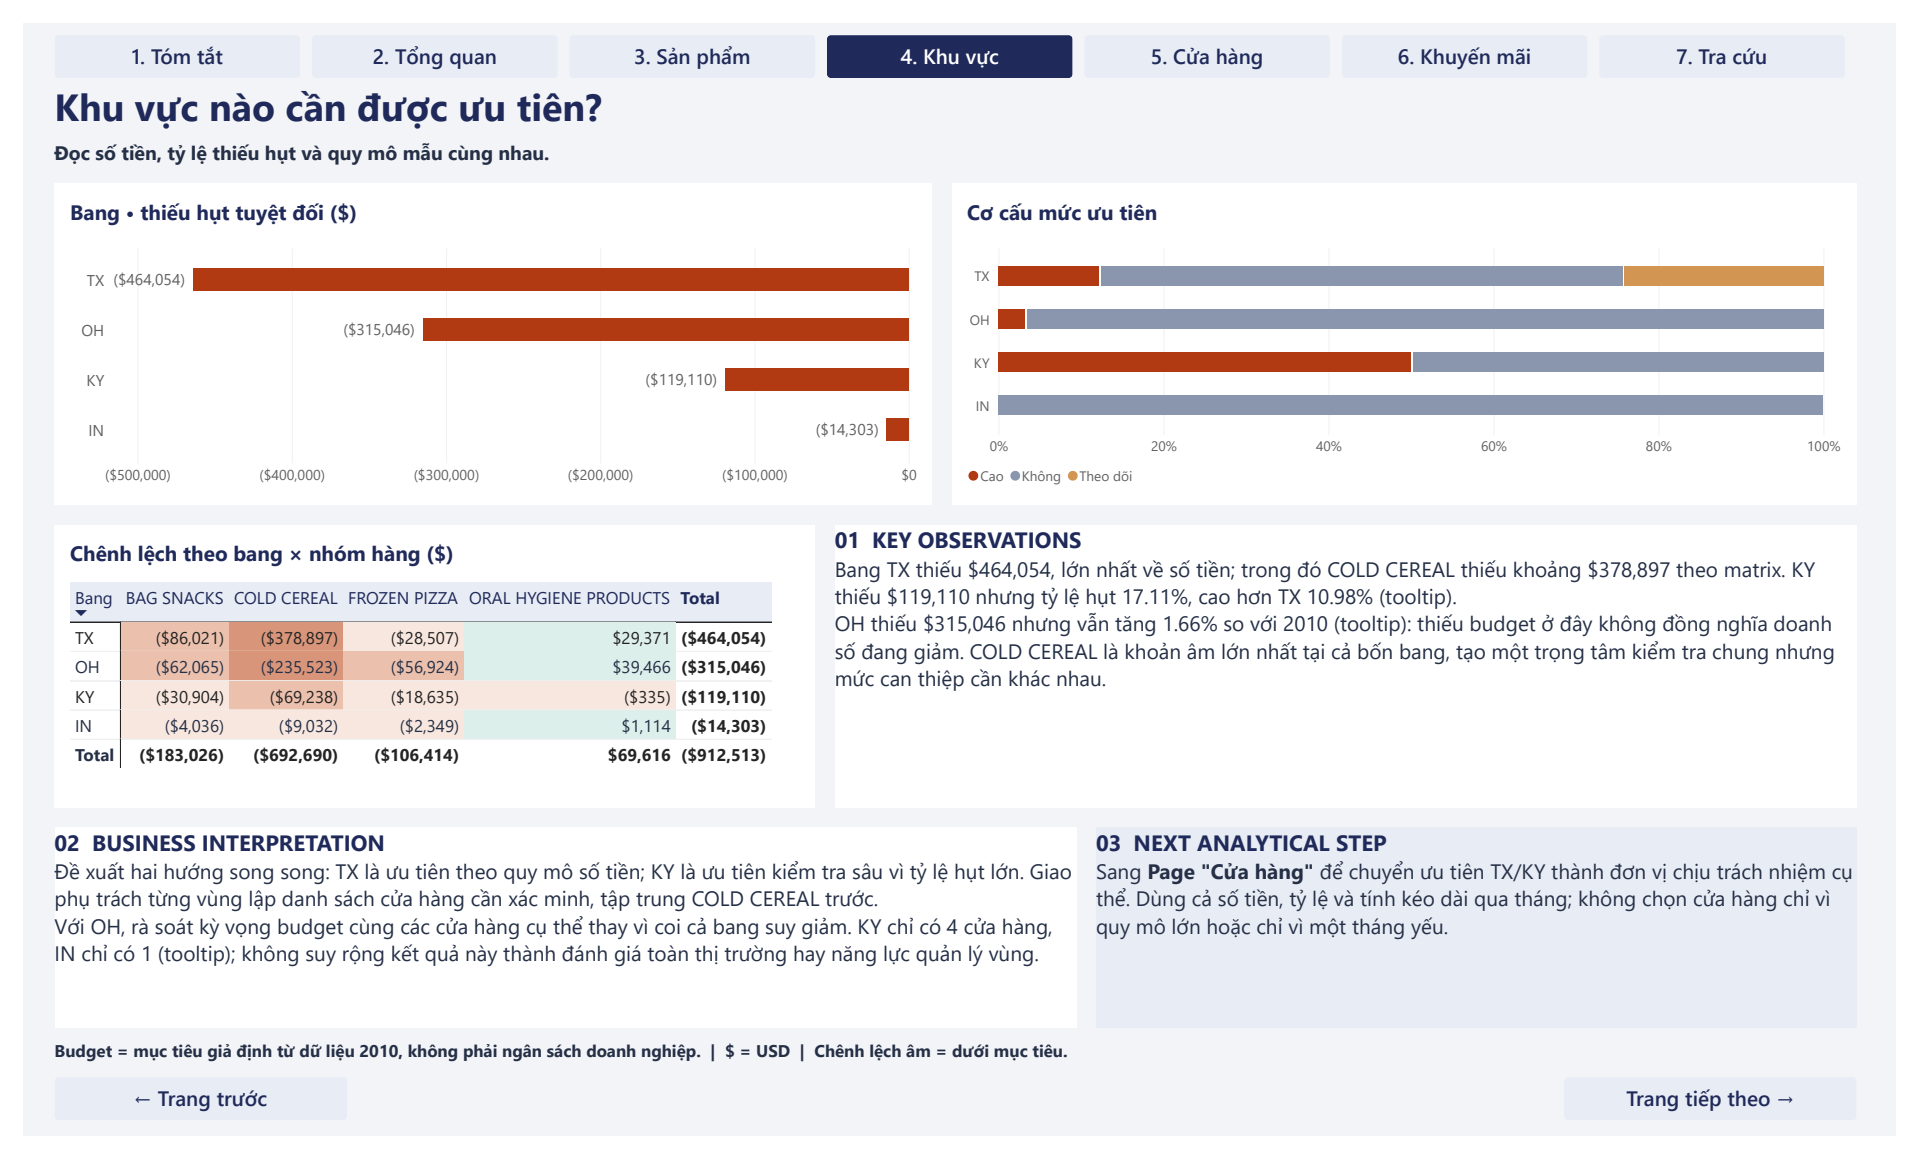

What the dashboard file says about the page in this screenshot:
{"tool":"powerbi","page":{"name":"Khu Vực","canvas":[1920,1140],"ordinal":3},"visuals":[{"type":"textbox","box":[1100,824,780,206],"z":0},{"type":"textbox","box":[832,514,1048,290],"z":1000},{"type":"pivotTable","title":"Chênh lệch theo bang × nhóm hàng ($)","fields":{"Columns":["Dim_Category.CATEGORY"],"Rows":["Dim_Store.ADDRESS_STATE_PROV_CODE"],"Values":["Fact_Transactions.Variance"]},"box":[32,514,780,290],"z":2000},{"type":"clusteredBarChart","title":"Bang • thiếu hụt tuyệt đối ($)","fields":{"Category":["Dim_Store.ADDRESS_STATE_PROV_CODE"],"Y":["Fact_Transactions.Variance1"]},"box":[32,164,900,330],"z":3000},{"type":"textbox","box":[32,118,1848,34],"z":4000},{"type":"textbox","box":[32,824,1048,206],"z":5000},{"type":"textbox","box":[32,58,1848,60],"z":6000},{"type":"hundredPercentStackedBarChart","title":"Cơ cấu mức ưu tiên","fields":{"Category":["Dim_Store.ADDRESS_STATE_PROV_CODE"],"Series":["Dim_Store.Muc_Uu_Tien"],"Y":["Count(Dim_Store.STORE_ID)"]},"box":[952,164,928,330],"z":7000},{"type":"textbox","box":[32,1040,1848,30],"z":8000},{"type":"actionButton","box":[296,12,252,44],"z":9000},{"type":"actionButton","box":[32,12,252,44],"z":10000},{"type":"actionButton","box":[824,12,252,44],"z":11000},{"type":"actionButton","box":[1580,1080,300,44],"z":12000},{"type":"actionButton","box":[1352,12,252,44],"z":13000},{"type":"actionButton","box":[1088,12,252,44],"z":14000},{"type":"actionButton","box":[1616,12,252,44],"z":15000},{"type":"actionButton","box":[32,1080,300,44],"z":16000},{"type":"actionButton","box":[560,12,252,44],"z":17000}]}

Visuals, with their boxes in screenshot pixels (x1, y1, x2, y2), scaled from the page's 1920x1140 canvas onto the 1919x1159 screenshot:
textbox: 1099 838 1879 1047
textbox: 832 523 1879 817
"Chênh lệch theo bang × nhóm hàng ($)" pivotTable: 32 523 812 817
"Bang • thiếu hụt tuyệt đối ($)" clusteredBarChart: 32 167 932 502
textbox: 32 120 1879 155
textbox: 32 838 1079 1047
textbox: 32 59 1879 120
"Cơ cấu mức ưu tiên" hundredPercentStackedBarChart: 952 167 1879 502
textbox: 32 1057 1879 1088
actionButton: 296 12 548 57
actionButton: 32 12 284 57
actionButton: 824 12 1075 57
actionButton: 1579 1098 1879 1143
actionButton: 1351 12 1603 57
actionButton: 1087 12 1339 57
actionButton: 1615 12 1867 57
actionButton: 32 1098 332 1143
actionButton: 560 12 812 57
